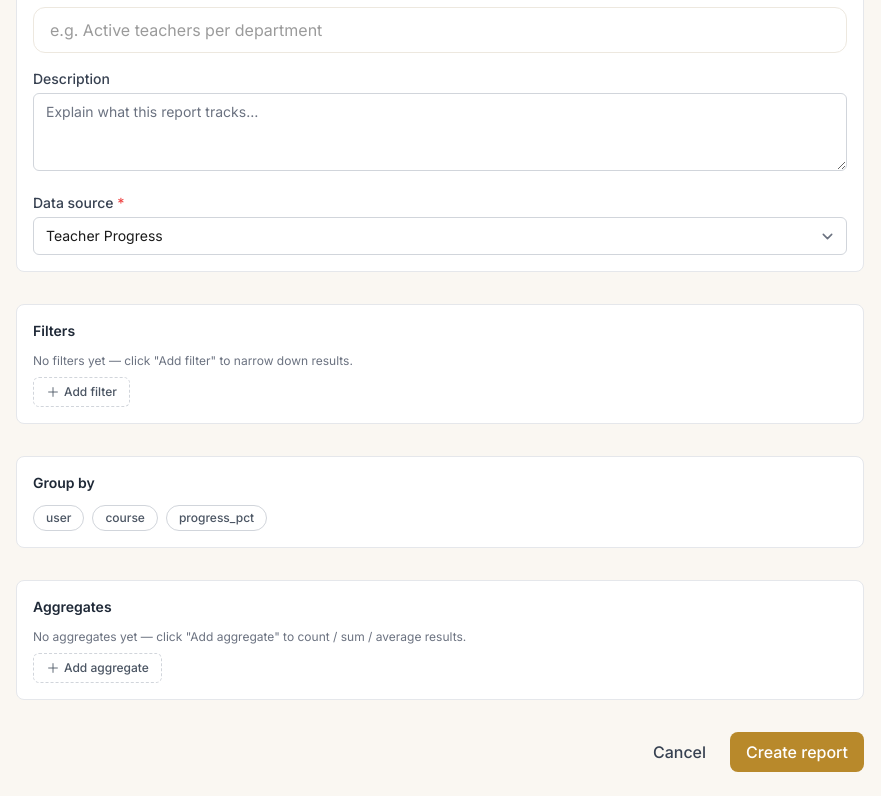
Test: ReportBuilderEditorPage — create mode › shows "Name is required" validation error when submitted empty
(page scrolled)
// Submit without filling name
What coordinates should you click on to do the following:
click the button with test id "editor-submit"
I would click on:
 (797, 752)
Its box is left=730, top=732, right=864, bottom=772.
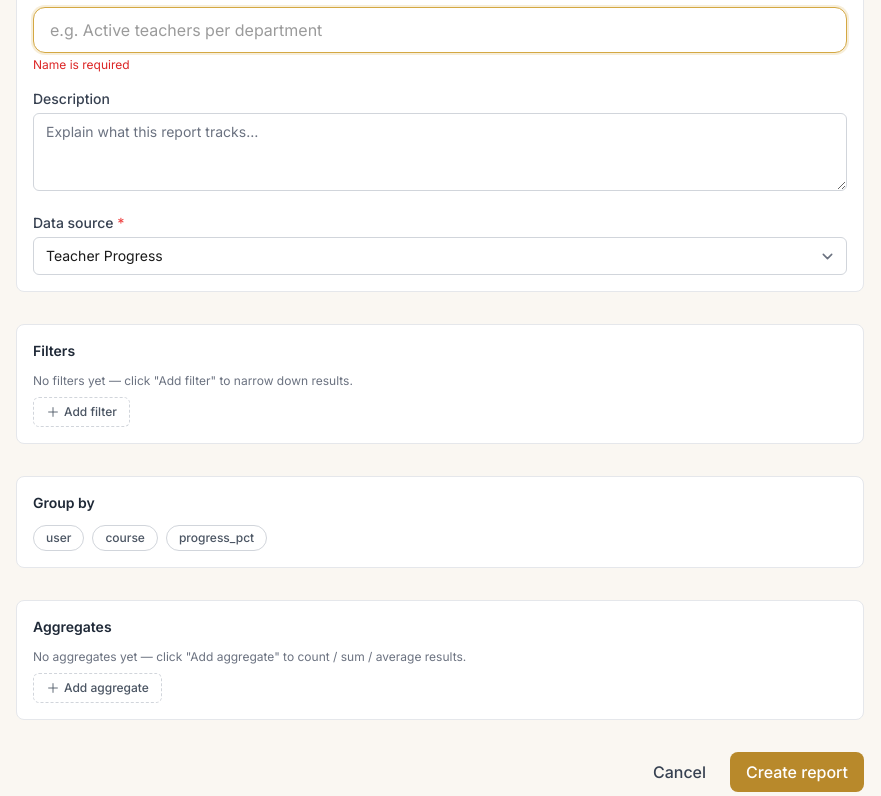
Now the message reads "Name is required", box left=33, top=57, right=130, bottom=72
